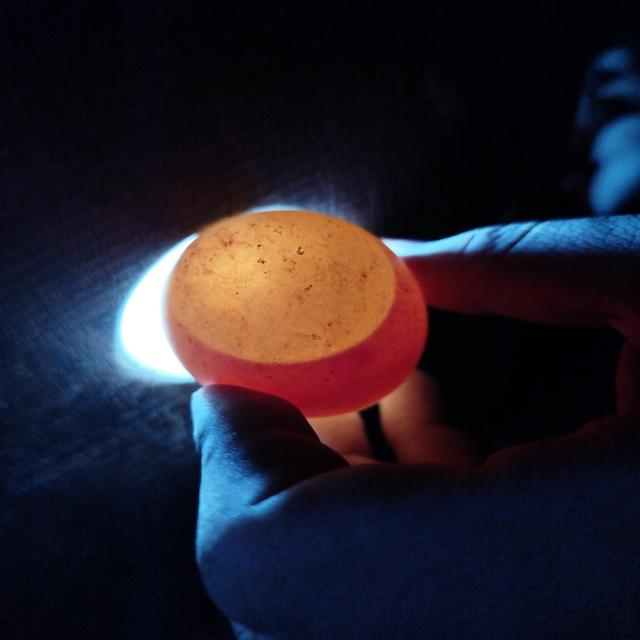Camara de Ar: (166, 211, 394, 364)
Gema Quebrada: (226, 273, 427, 418)
